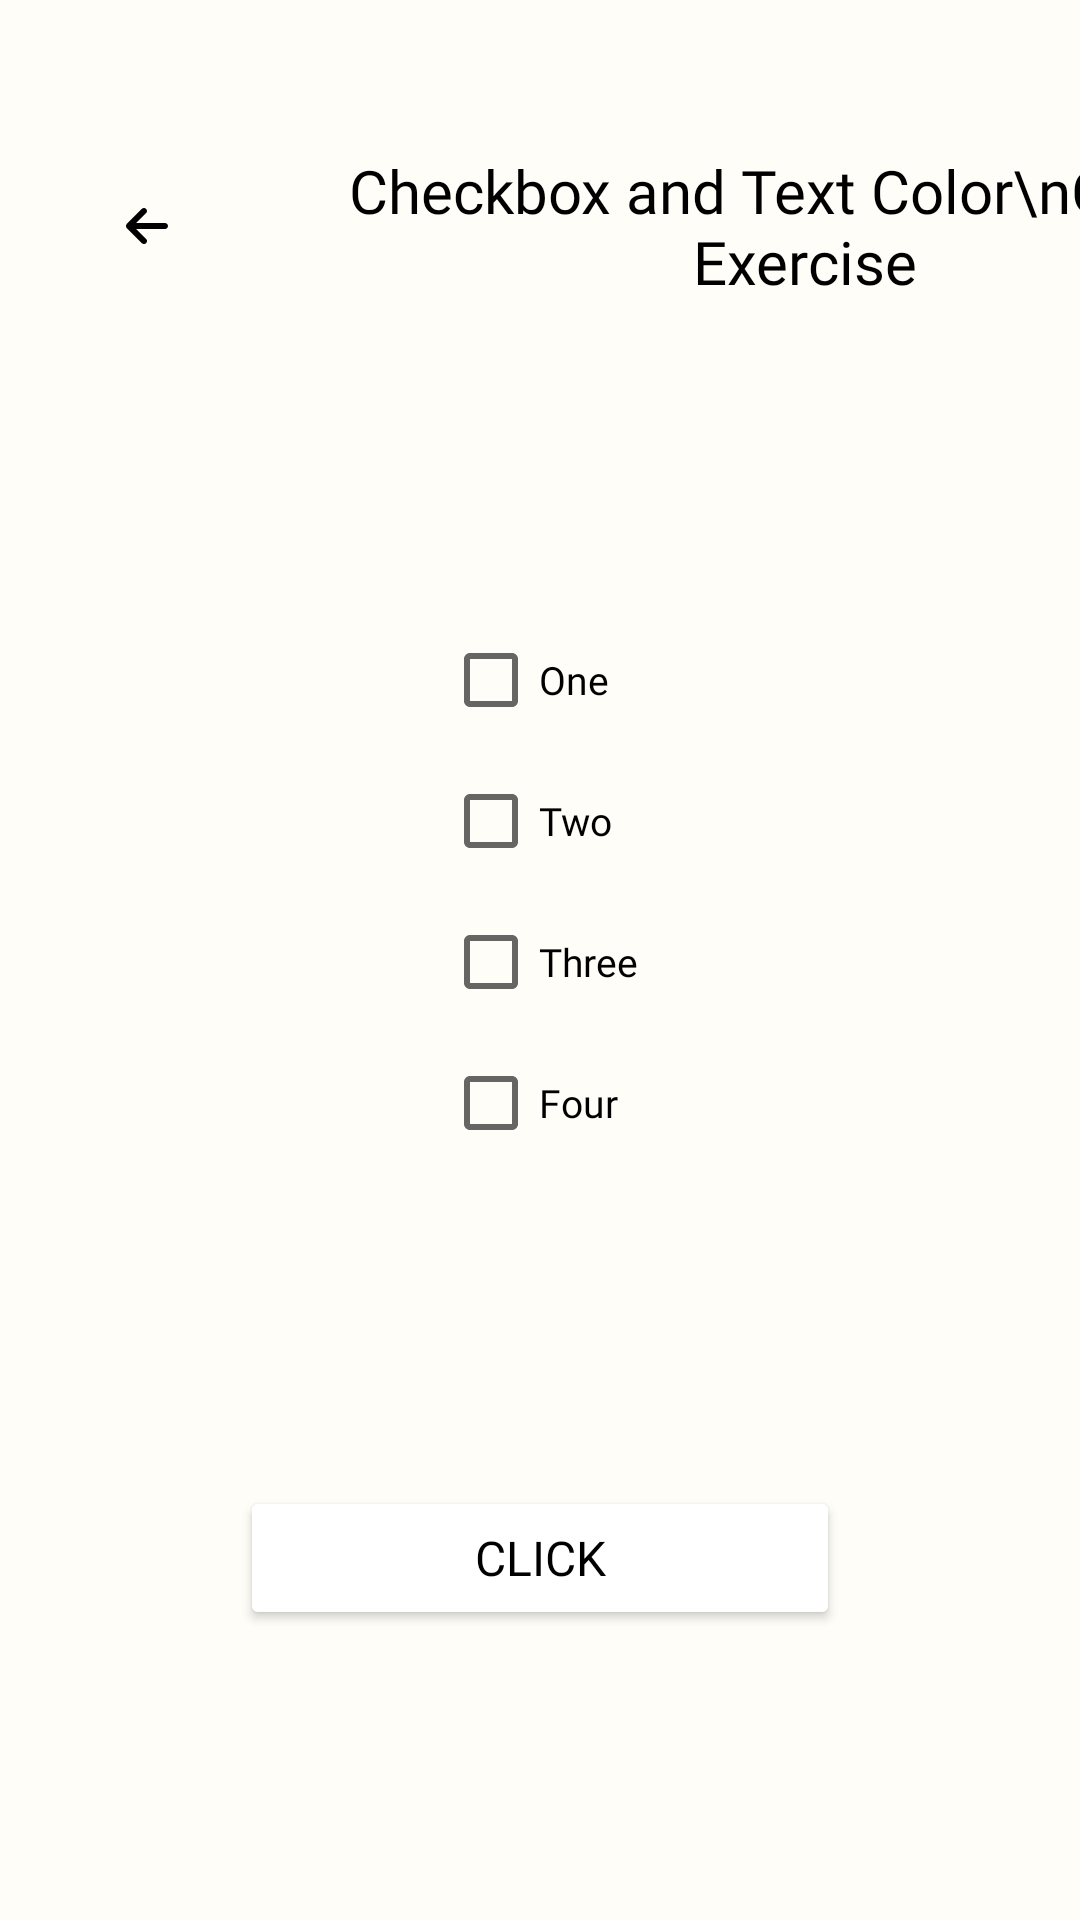

Locate icon controls on the screen. Image size 1080×1920, boxes as (x1, y1, x2, y2).
backarrow: (126, 208, 168, 244)
